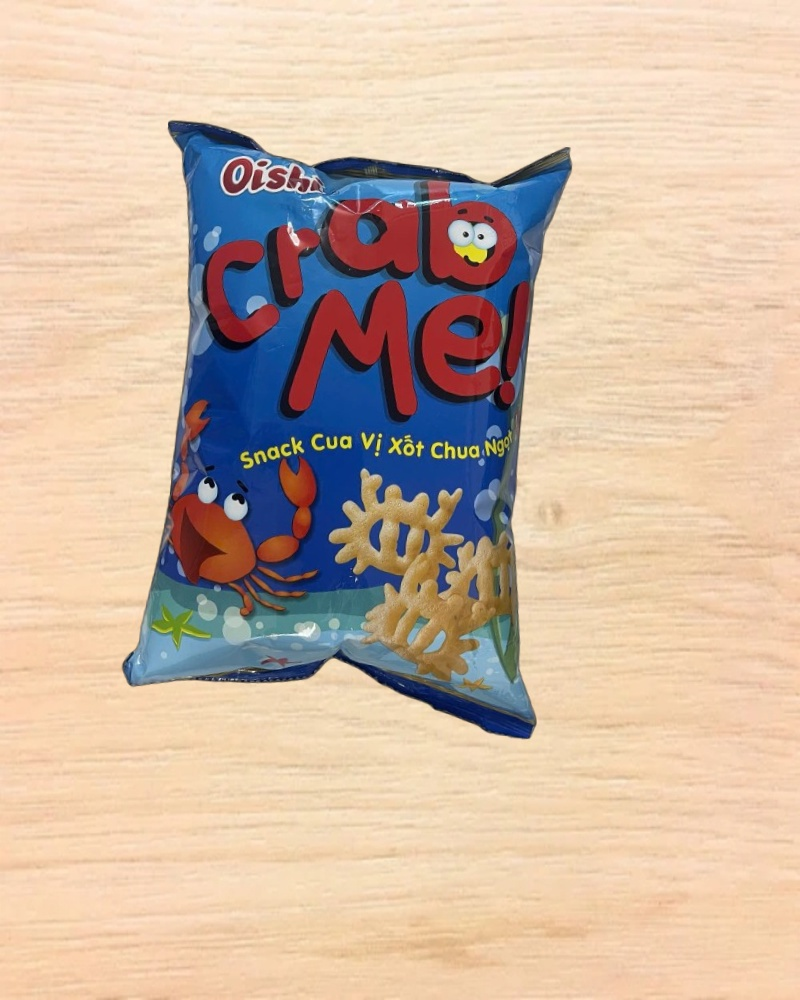Snack cua: (119, 113, 586, 734)
